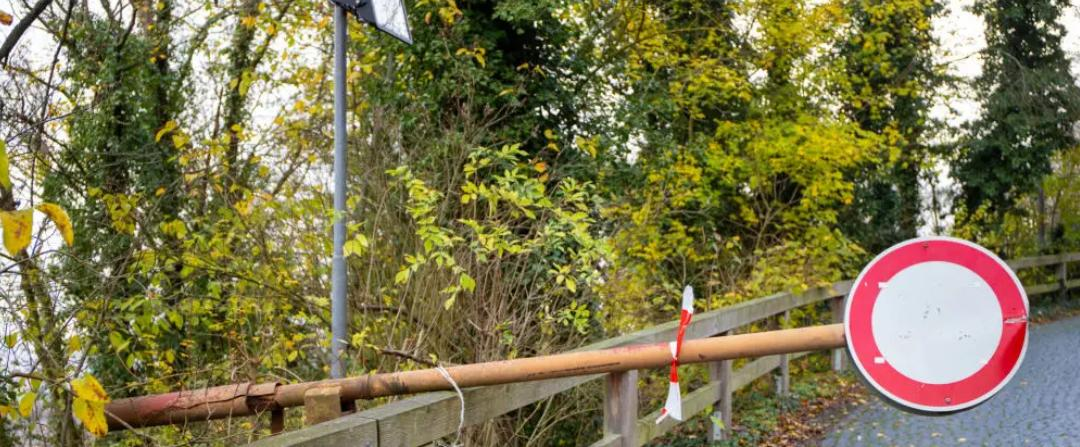road_sign: (843, 238, 1028, 412)
